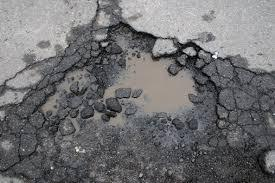pothole: (48, 20, 226, 141)
